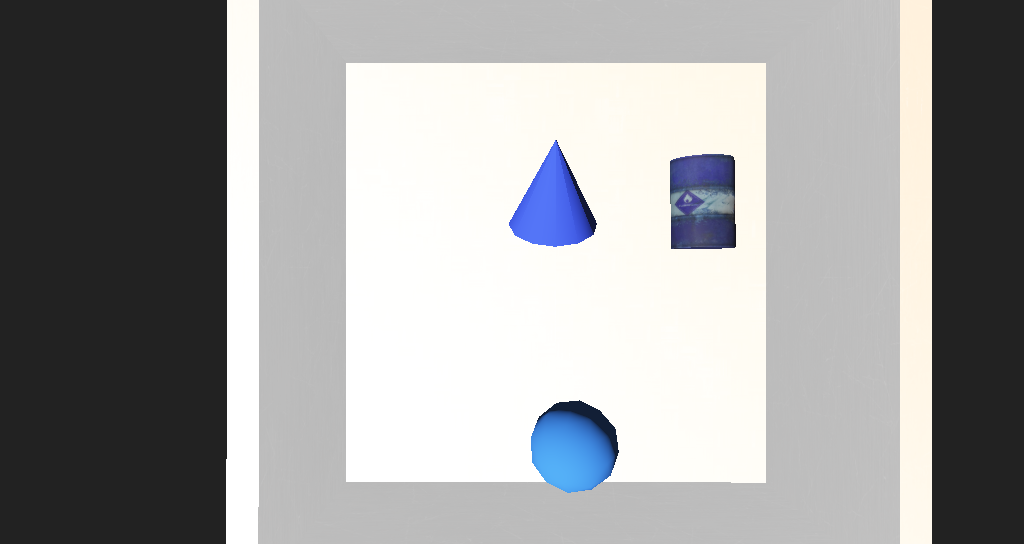cone: (579, 210, 633, 258)
cylinder: (475, 186, 536, 253)
sphere: (488, 329, 549, 377)
